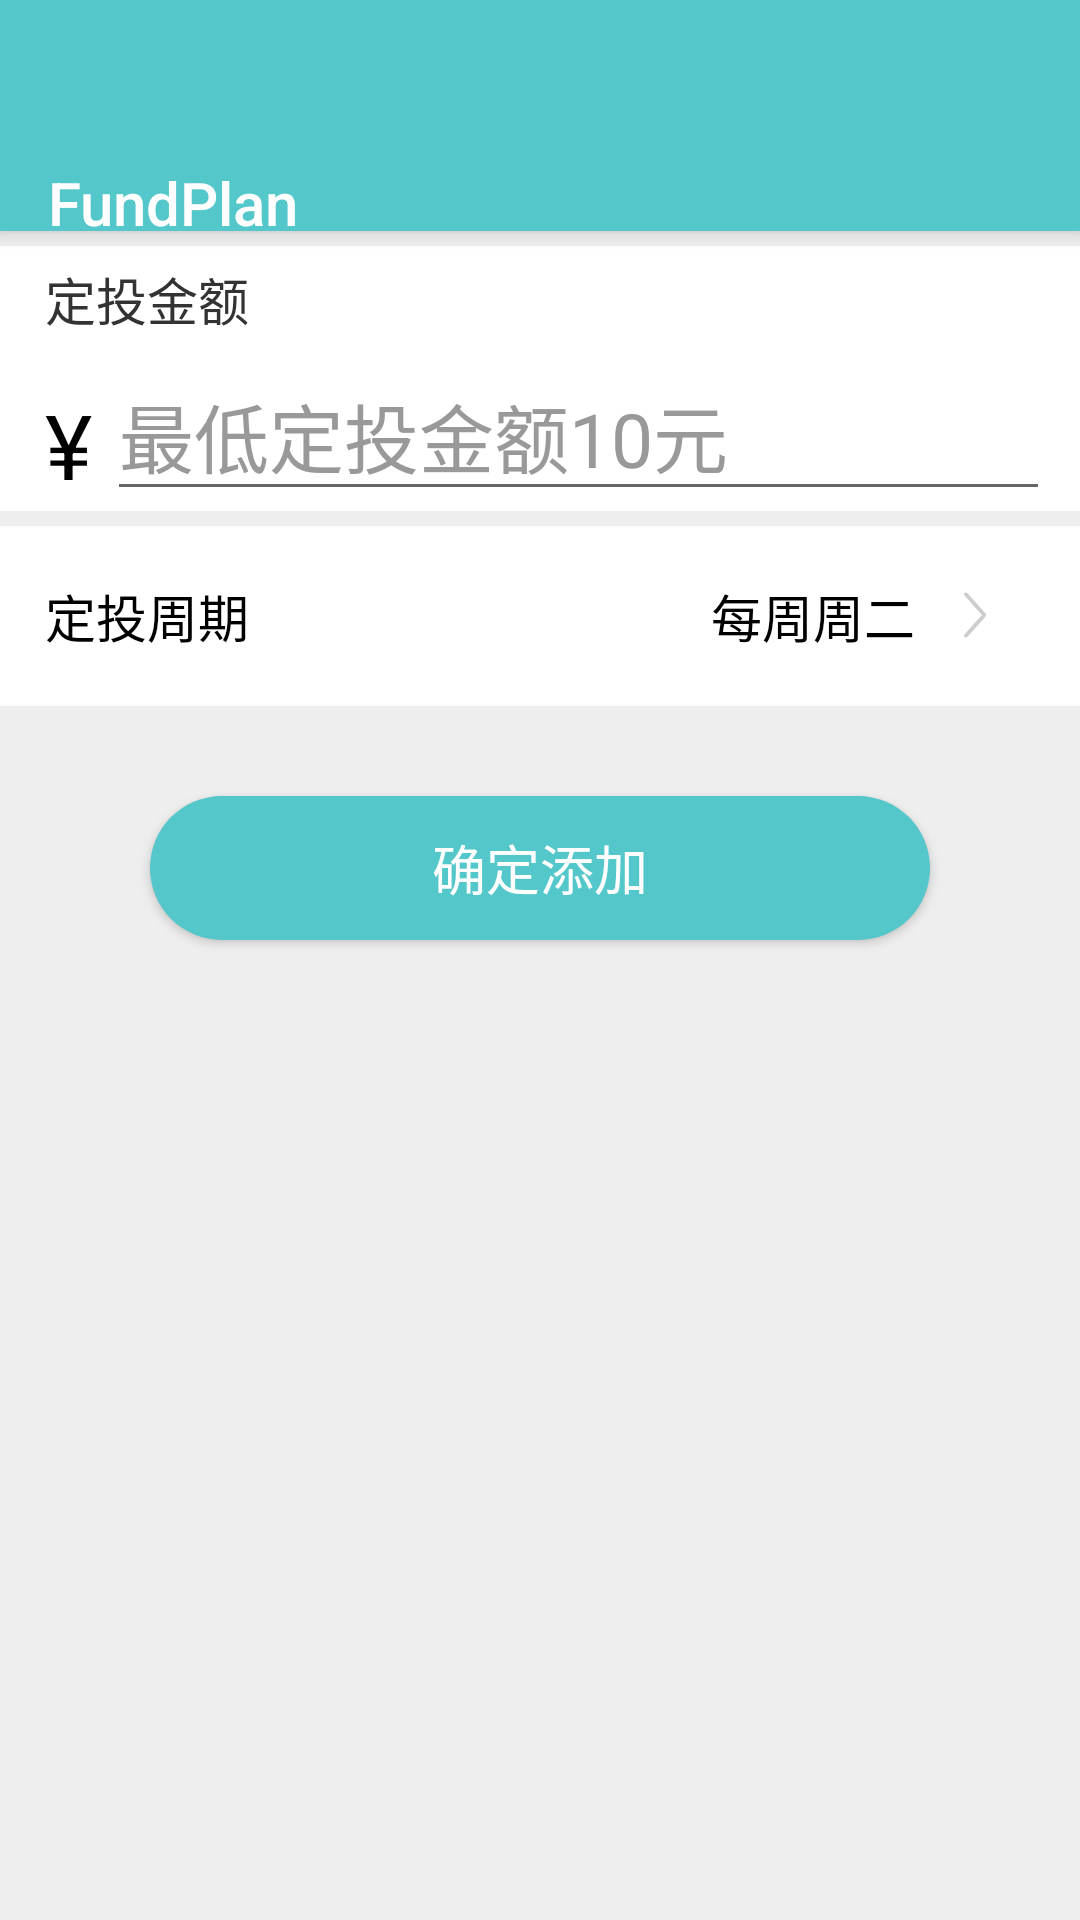

Icons on this 1080w x 1920h Android screen, each with the point to tap as [x,y]:
right: [975,615]
